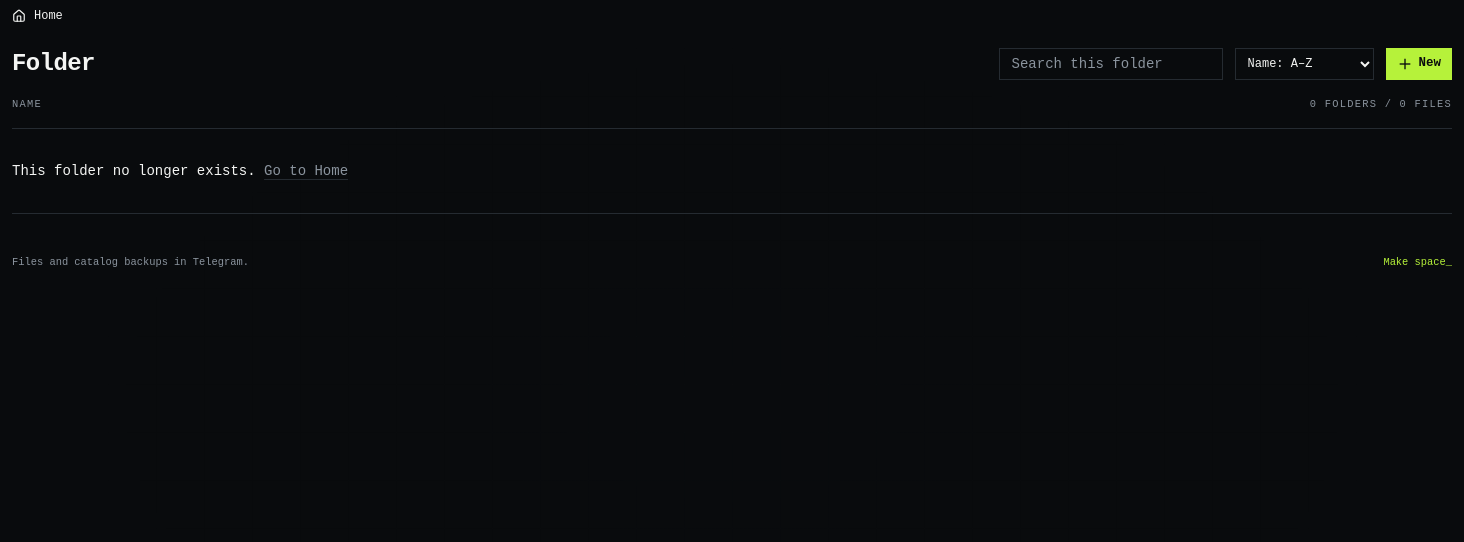
Test: file explorer › recovers from a missing folder with a Home link
Check: the message "This folder no longer exists. Go to Home" is shown, box [12,129,1452,214]
Click the link "Go to Home": click(306, 171) [264,163,348,179]
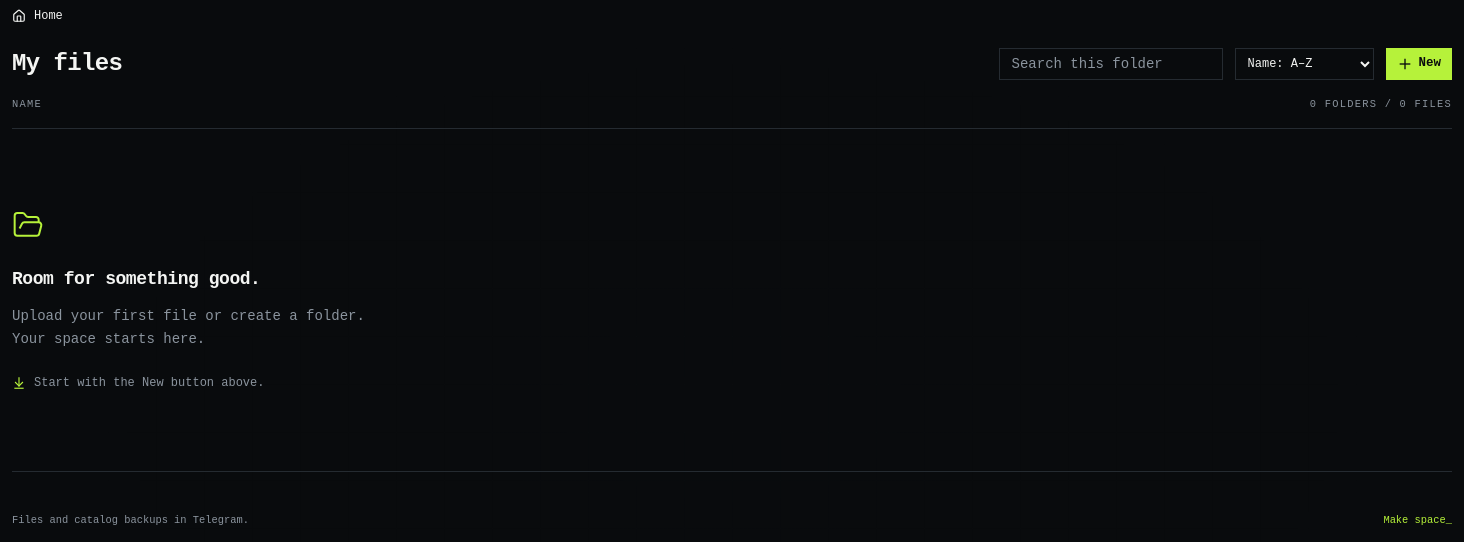
Check: the heading "My files" is shown, box [12,50,122,77]
